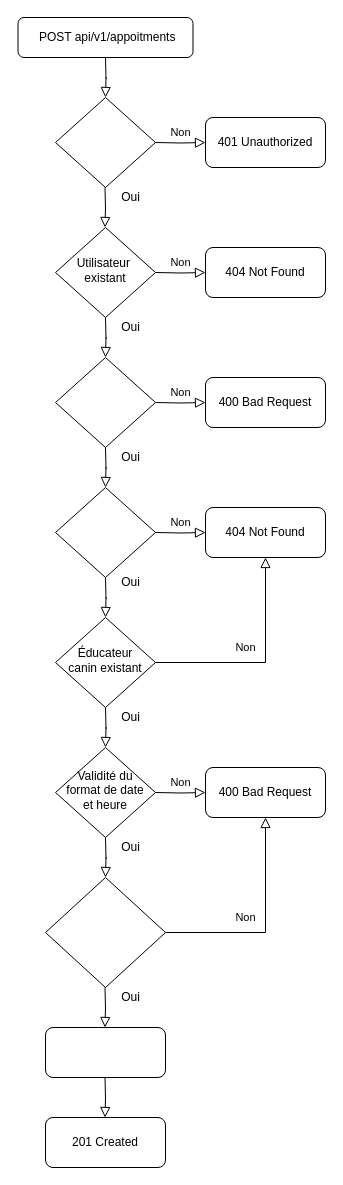
Image size: 343x1185. Some labels were removed from this diagram. The centre of each missing label's shape, as x and y in pixels:
"Client existant" goes at (105,532).
"Header Authorization présent" goes at (105,142).
"Insertion du rendez-vous dans la base de données" goes at (105,1052).
"Rendez-vous valide dans le planning de l'éducateur" goes at (105,932).
"Validité des champs" goes at (105,402).
